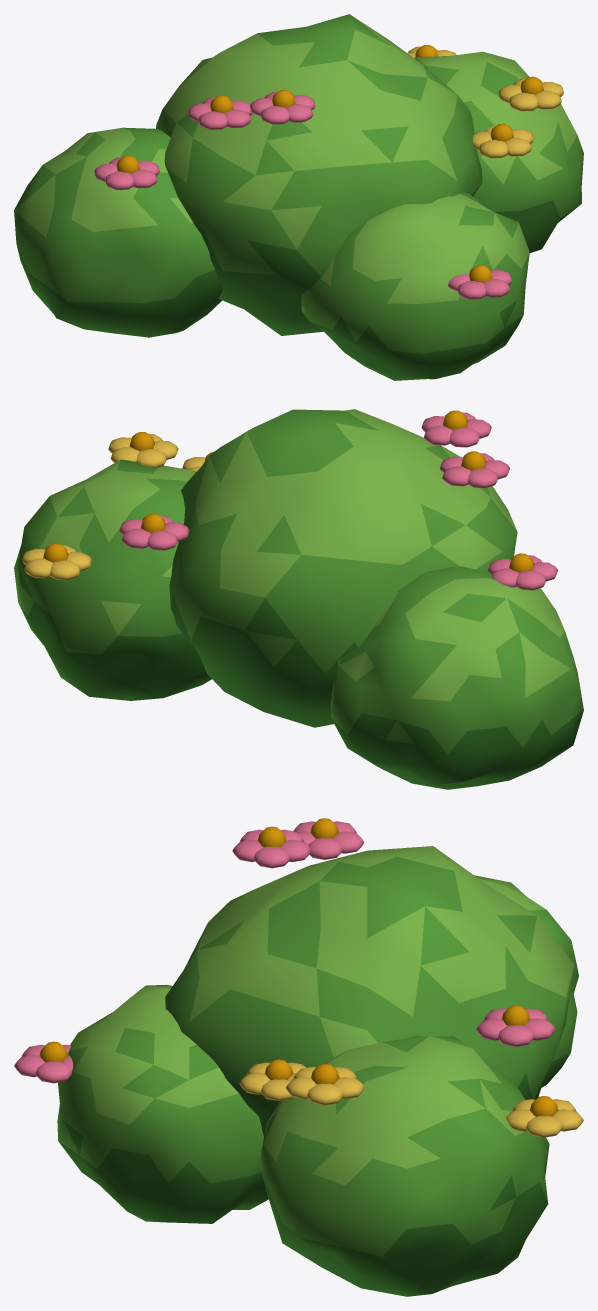
Rendered from bush.glb.
The picture shows the model from 3 angles, top to bottom: view 1: azimuth 30°, elevation 25°; view 2: azimuth 150°, elevation 25°; view 3: azimuth 270°, elevation 25°; orthographic projection. The views are drawn at different scales.
Parts seen in each view (by area): view 1: Bush; view 2: Bush; view 3: Bush.
Part boxes in pixels (x1,y1,x2,y2): Bush: (14,14,583,380); Bush: (14,409,583,789); Bush: (14,818,583,1296).
Bounding box in the file's own units: 1.07 × 0.5481 × 0.8642.
